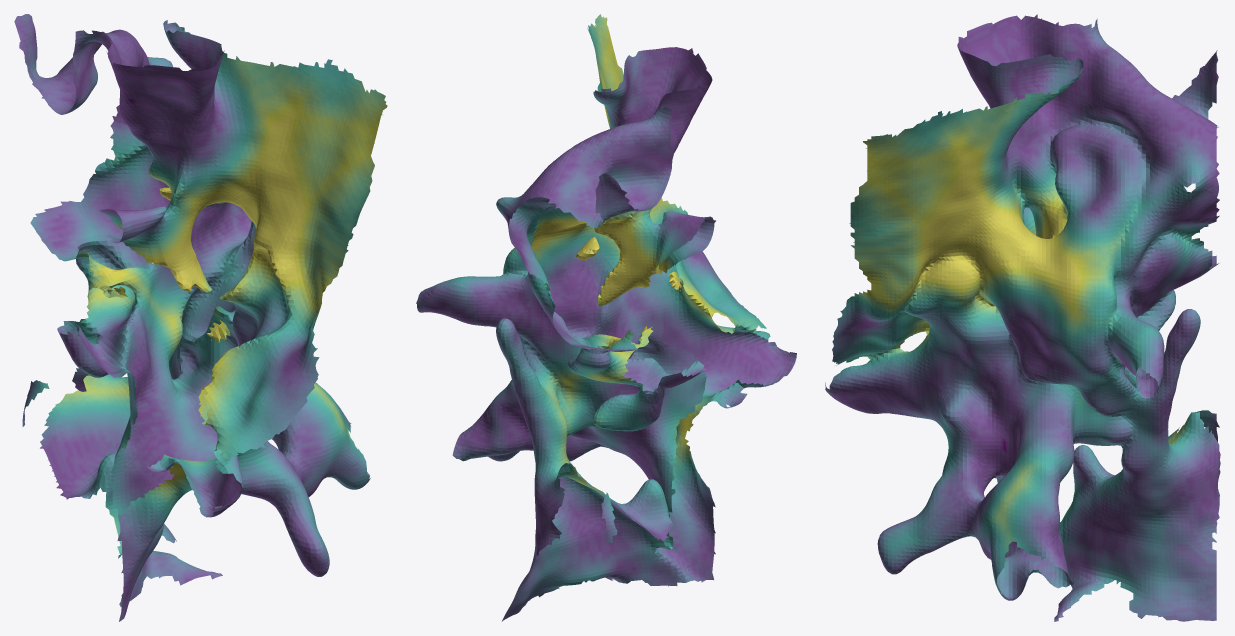
File: crop1135_gap.glb
The picture shows the model from 3 angles, left to right: view 1: azimuth 30°, elevation 25°; view 2: azimuth 150°, elevation 25°; view 3: azimuth 270°, elevation 25°; orthographic projection. The views are drawn at different scales.
Visible parts, largest first — view 1: world; view 2: world; view 3: world.
Boxes of the visible parts, box(x1,y1,x2,y2) form: world: box(14, 14, 387, 621); world: box(416, 14, 796, 621); world: box(825, 14, 1220, 621).
Bounding box in the file's own units: 1120 × 2335 × 1521.
